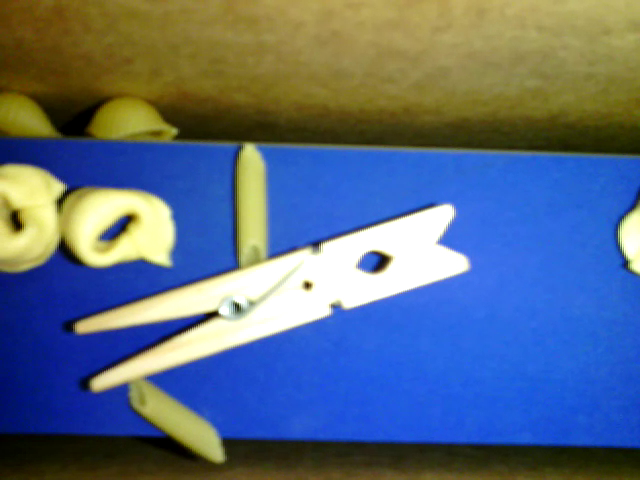penne: (124, 373, 227, 464), (234, 140, 267, 278)
shell: (86, 96, 177, 143), (1, 88, 67, 142)
tortellini: (59, 185, 178, 264), (1, 155, 73, 275), (619, 191, 639, 279)
